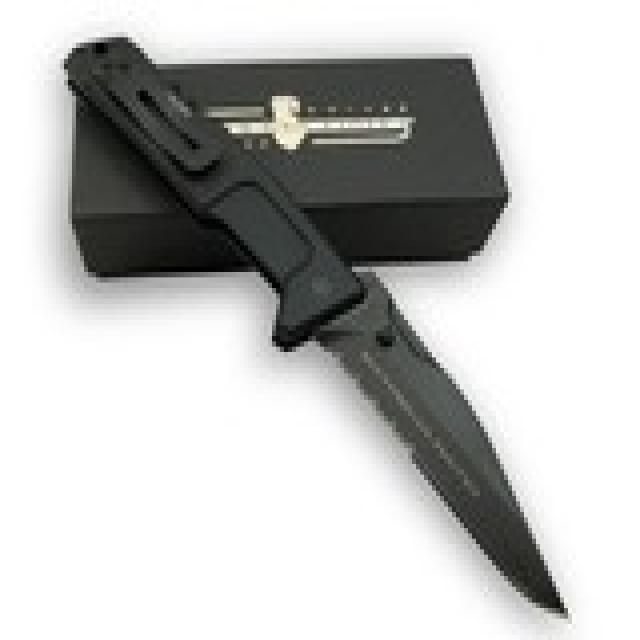Knife: (59, 19, 571, 619)
